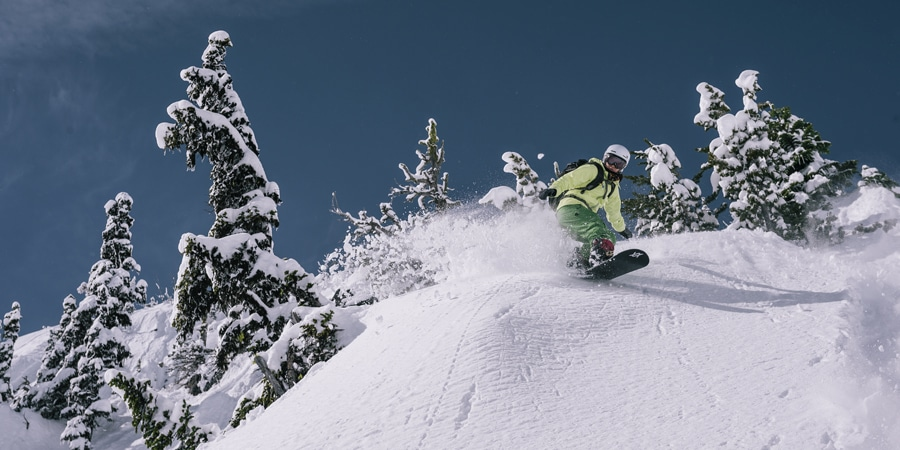snowboarder: (537, 142, 656, 299)
